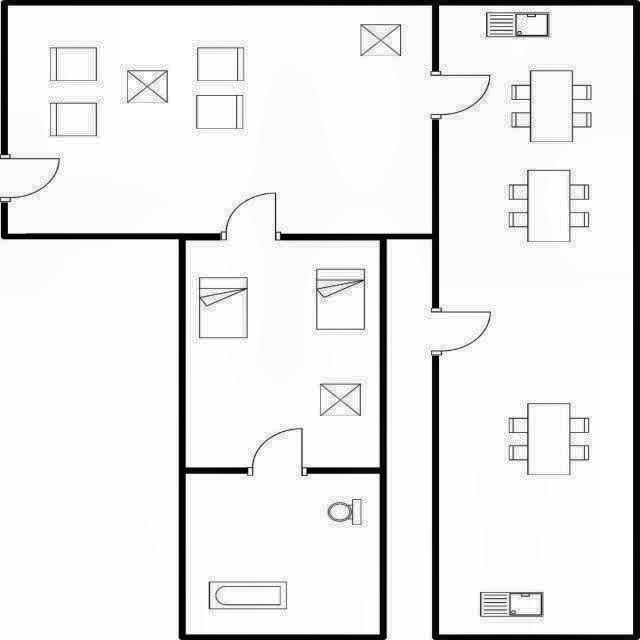room: (439, 5, 633, 635), (8, 6, 432, 233), (186, 240, 380, 468), (186, 474, 380, 634)
